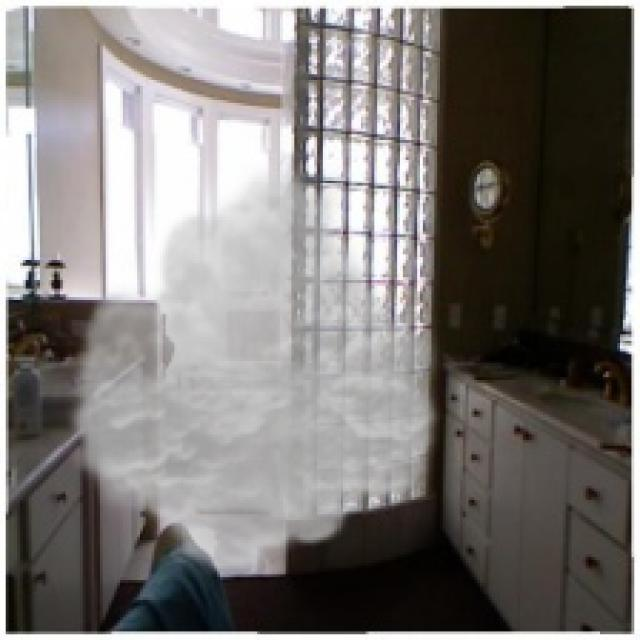Smoke: (60, 162, 449, 578)
